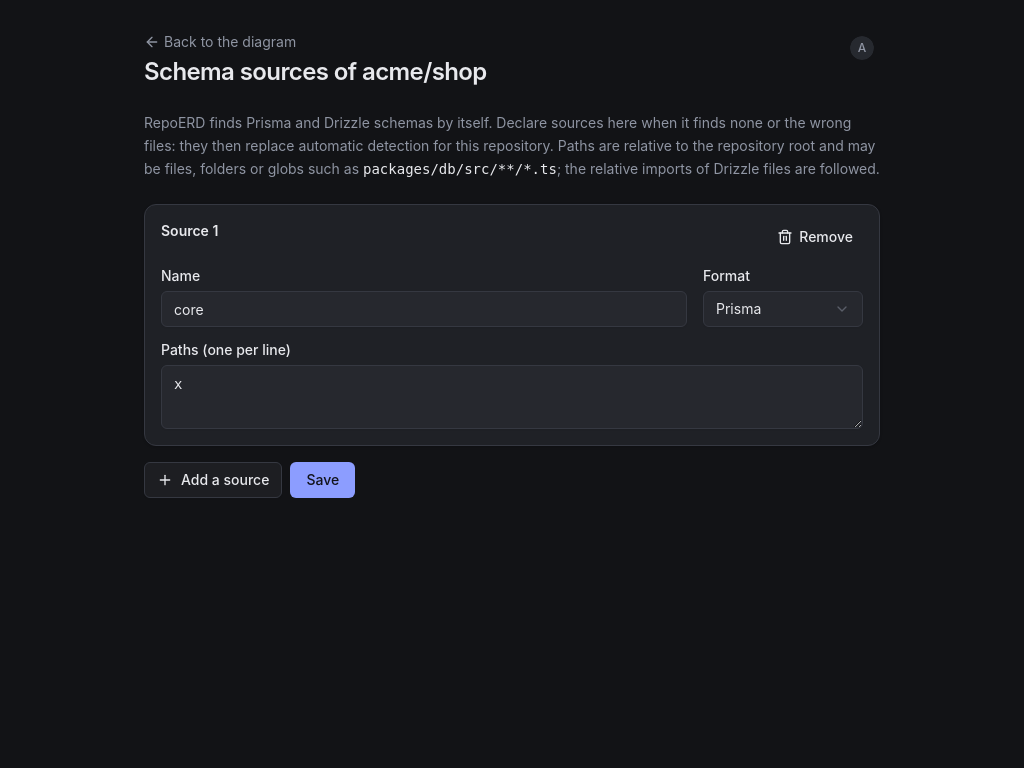
it: RepoSettingsPage › clears a refusal as soon as the sources are edited again
The width and height of the screenshot is (1024, 768).
Click the button "Save" at (323, 480), box 290,462 -> 355,498
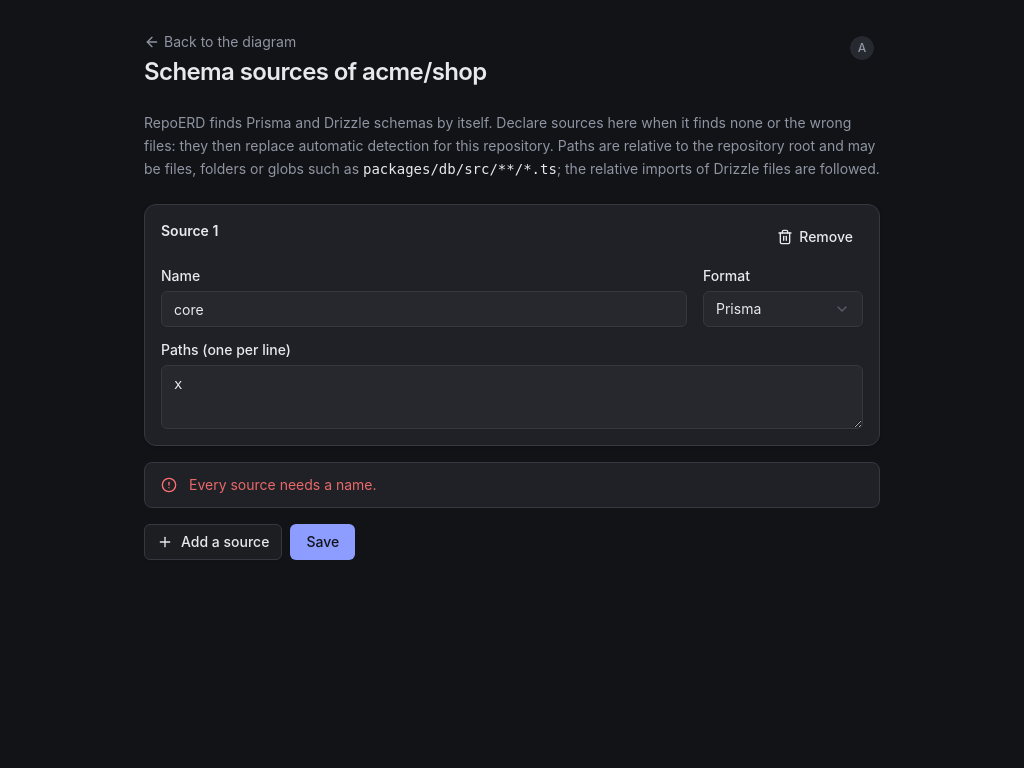
Now the message reads "Every source needs a name.", box 189,476 -> 377,493
Replace the text in the field labelled "Name" with "main" at (424, 309), box 161,291 -> 687,327
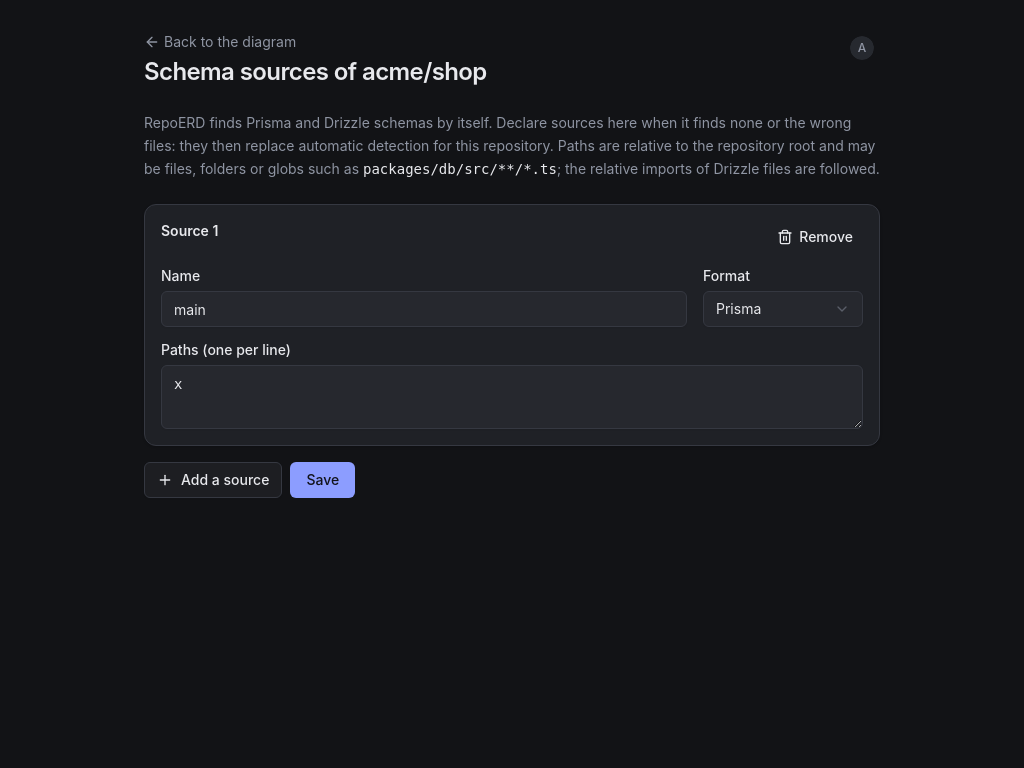
Now the message "Every source needs a name." is gone
Click the button "Save" at (323, 480), box 290,462 -> 355,498
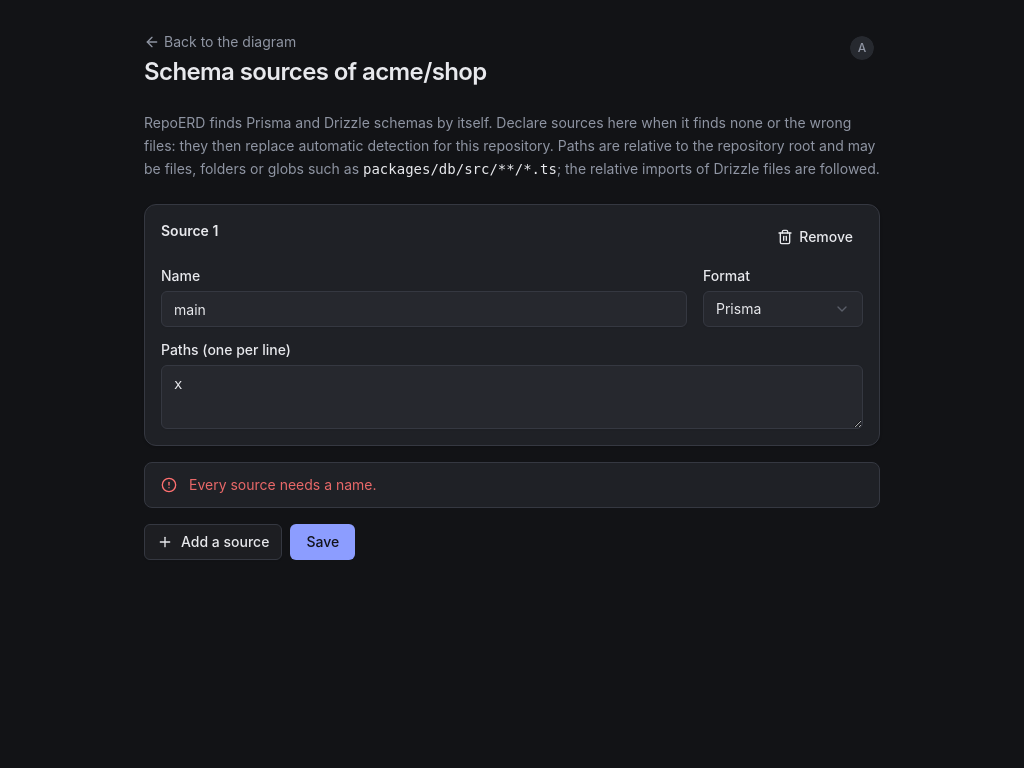
Now the message "Every source needs a name." is shown, box 144,462 -> 880,508
Click the button "Add a source" at (213, 542), box 144,524 -> 282,560
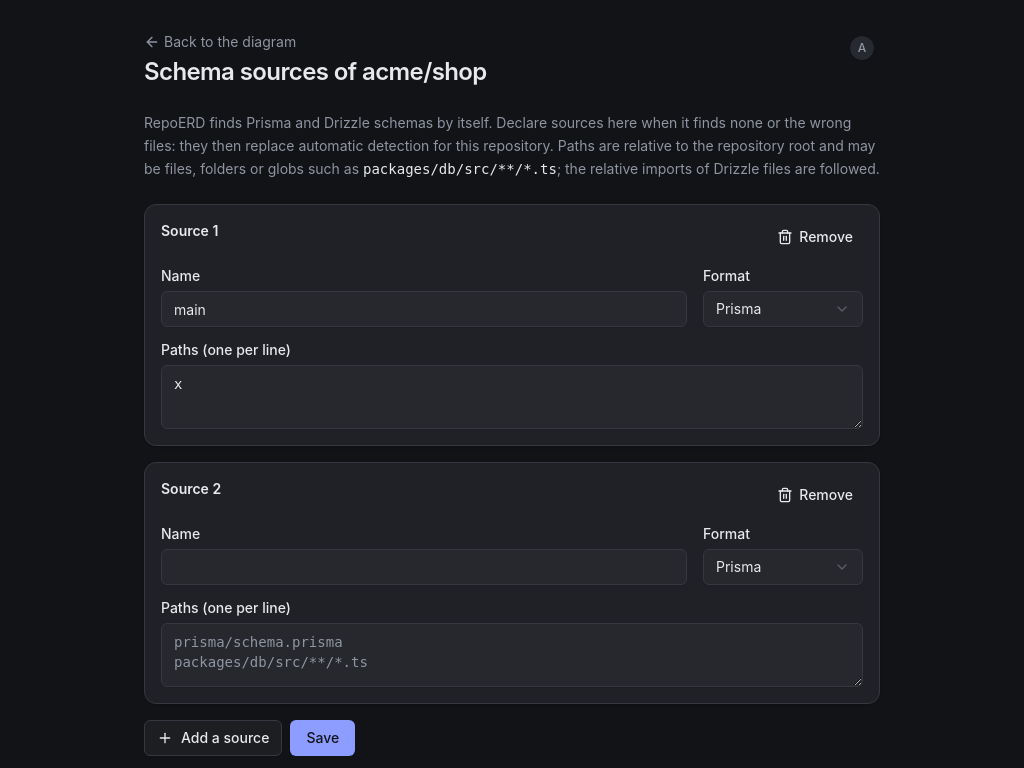
Now the message "Every source needs a name." is gone
